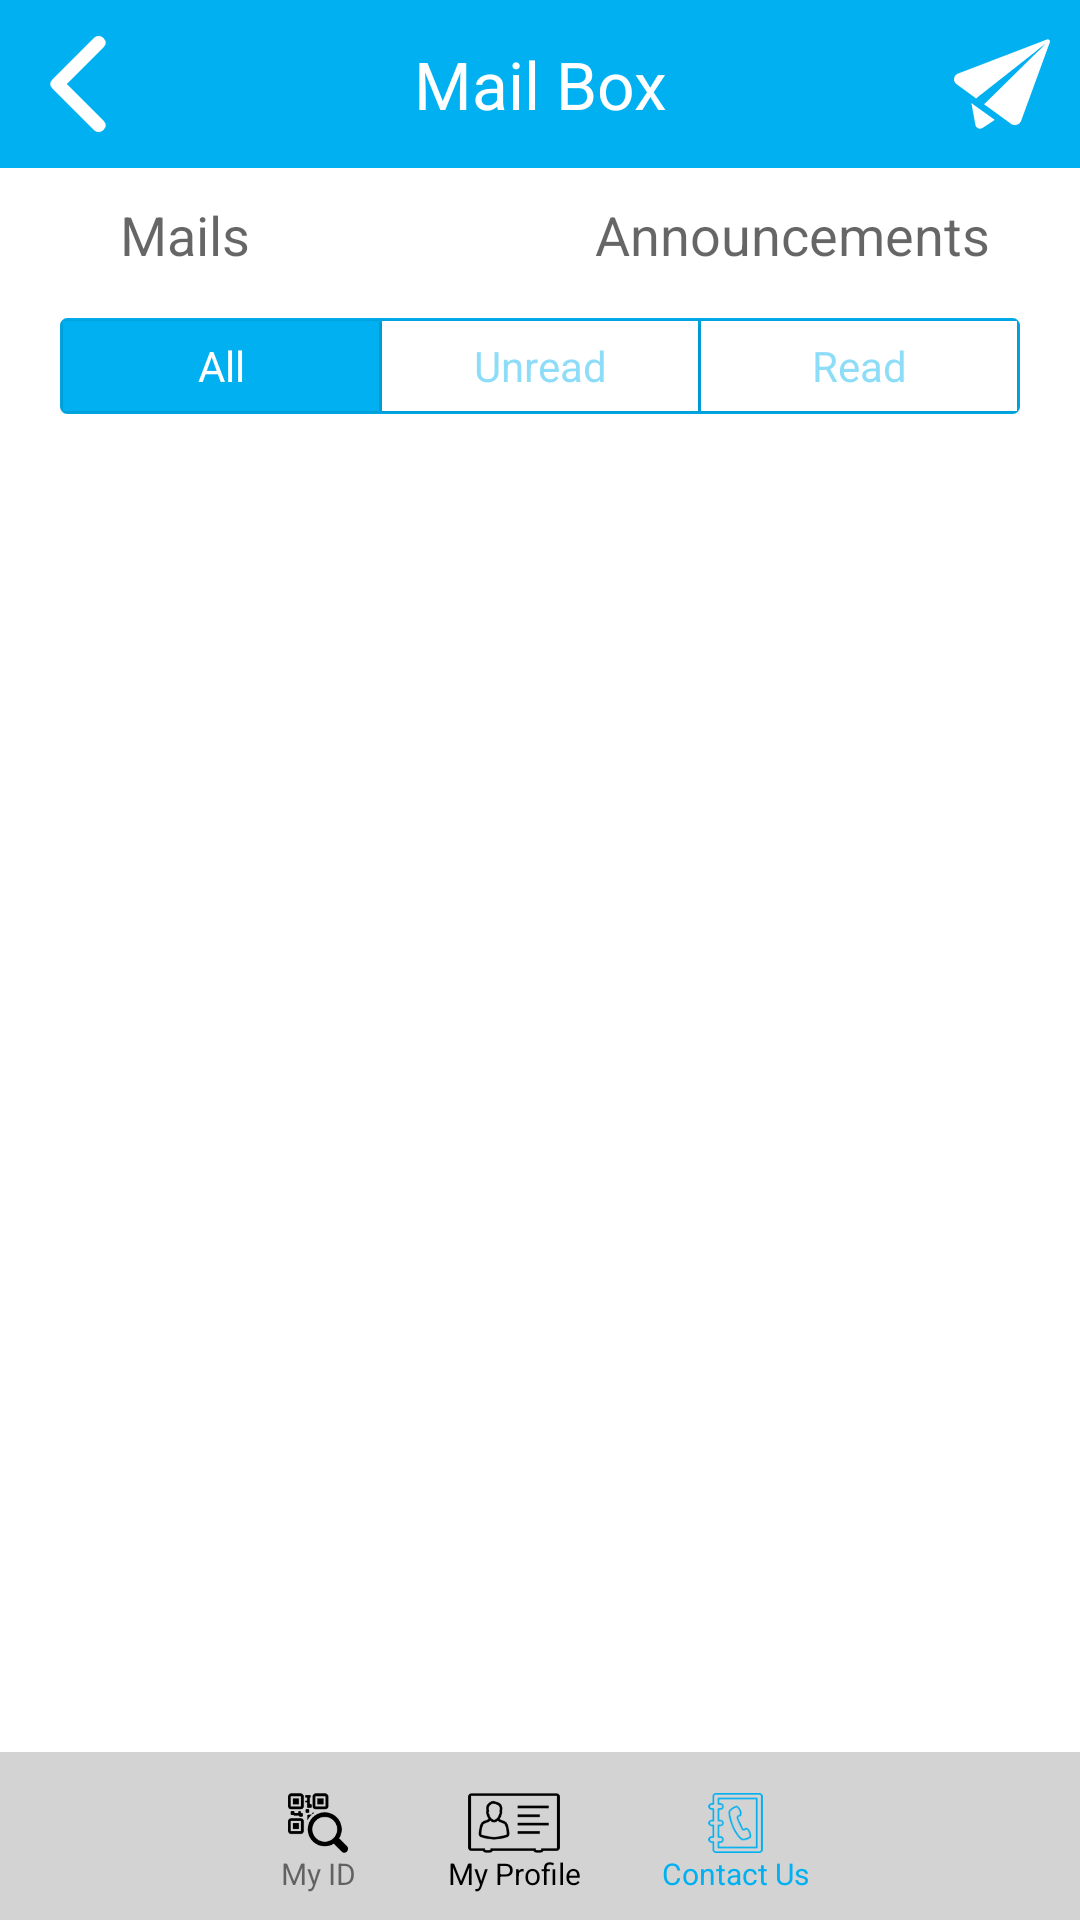

Named icons in this screenshot (1080px×1920px) and their bounding boxes, (x1, y1, x2, y2):
back: (50, 36, 106, 132)
quick response code: (288, 1793, 348, 1853)
sendmail: (954, 39, 1050, 129)
